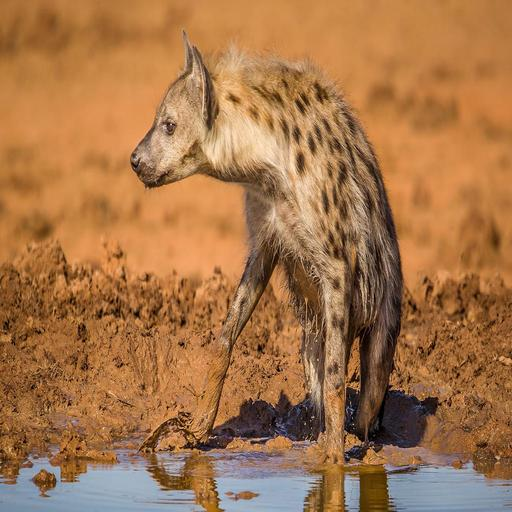Hyena: (130, 28, 406, 468)
